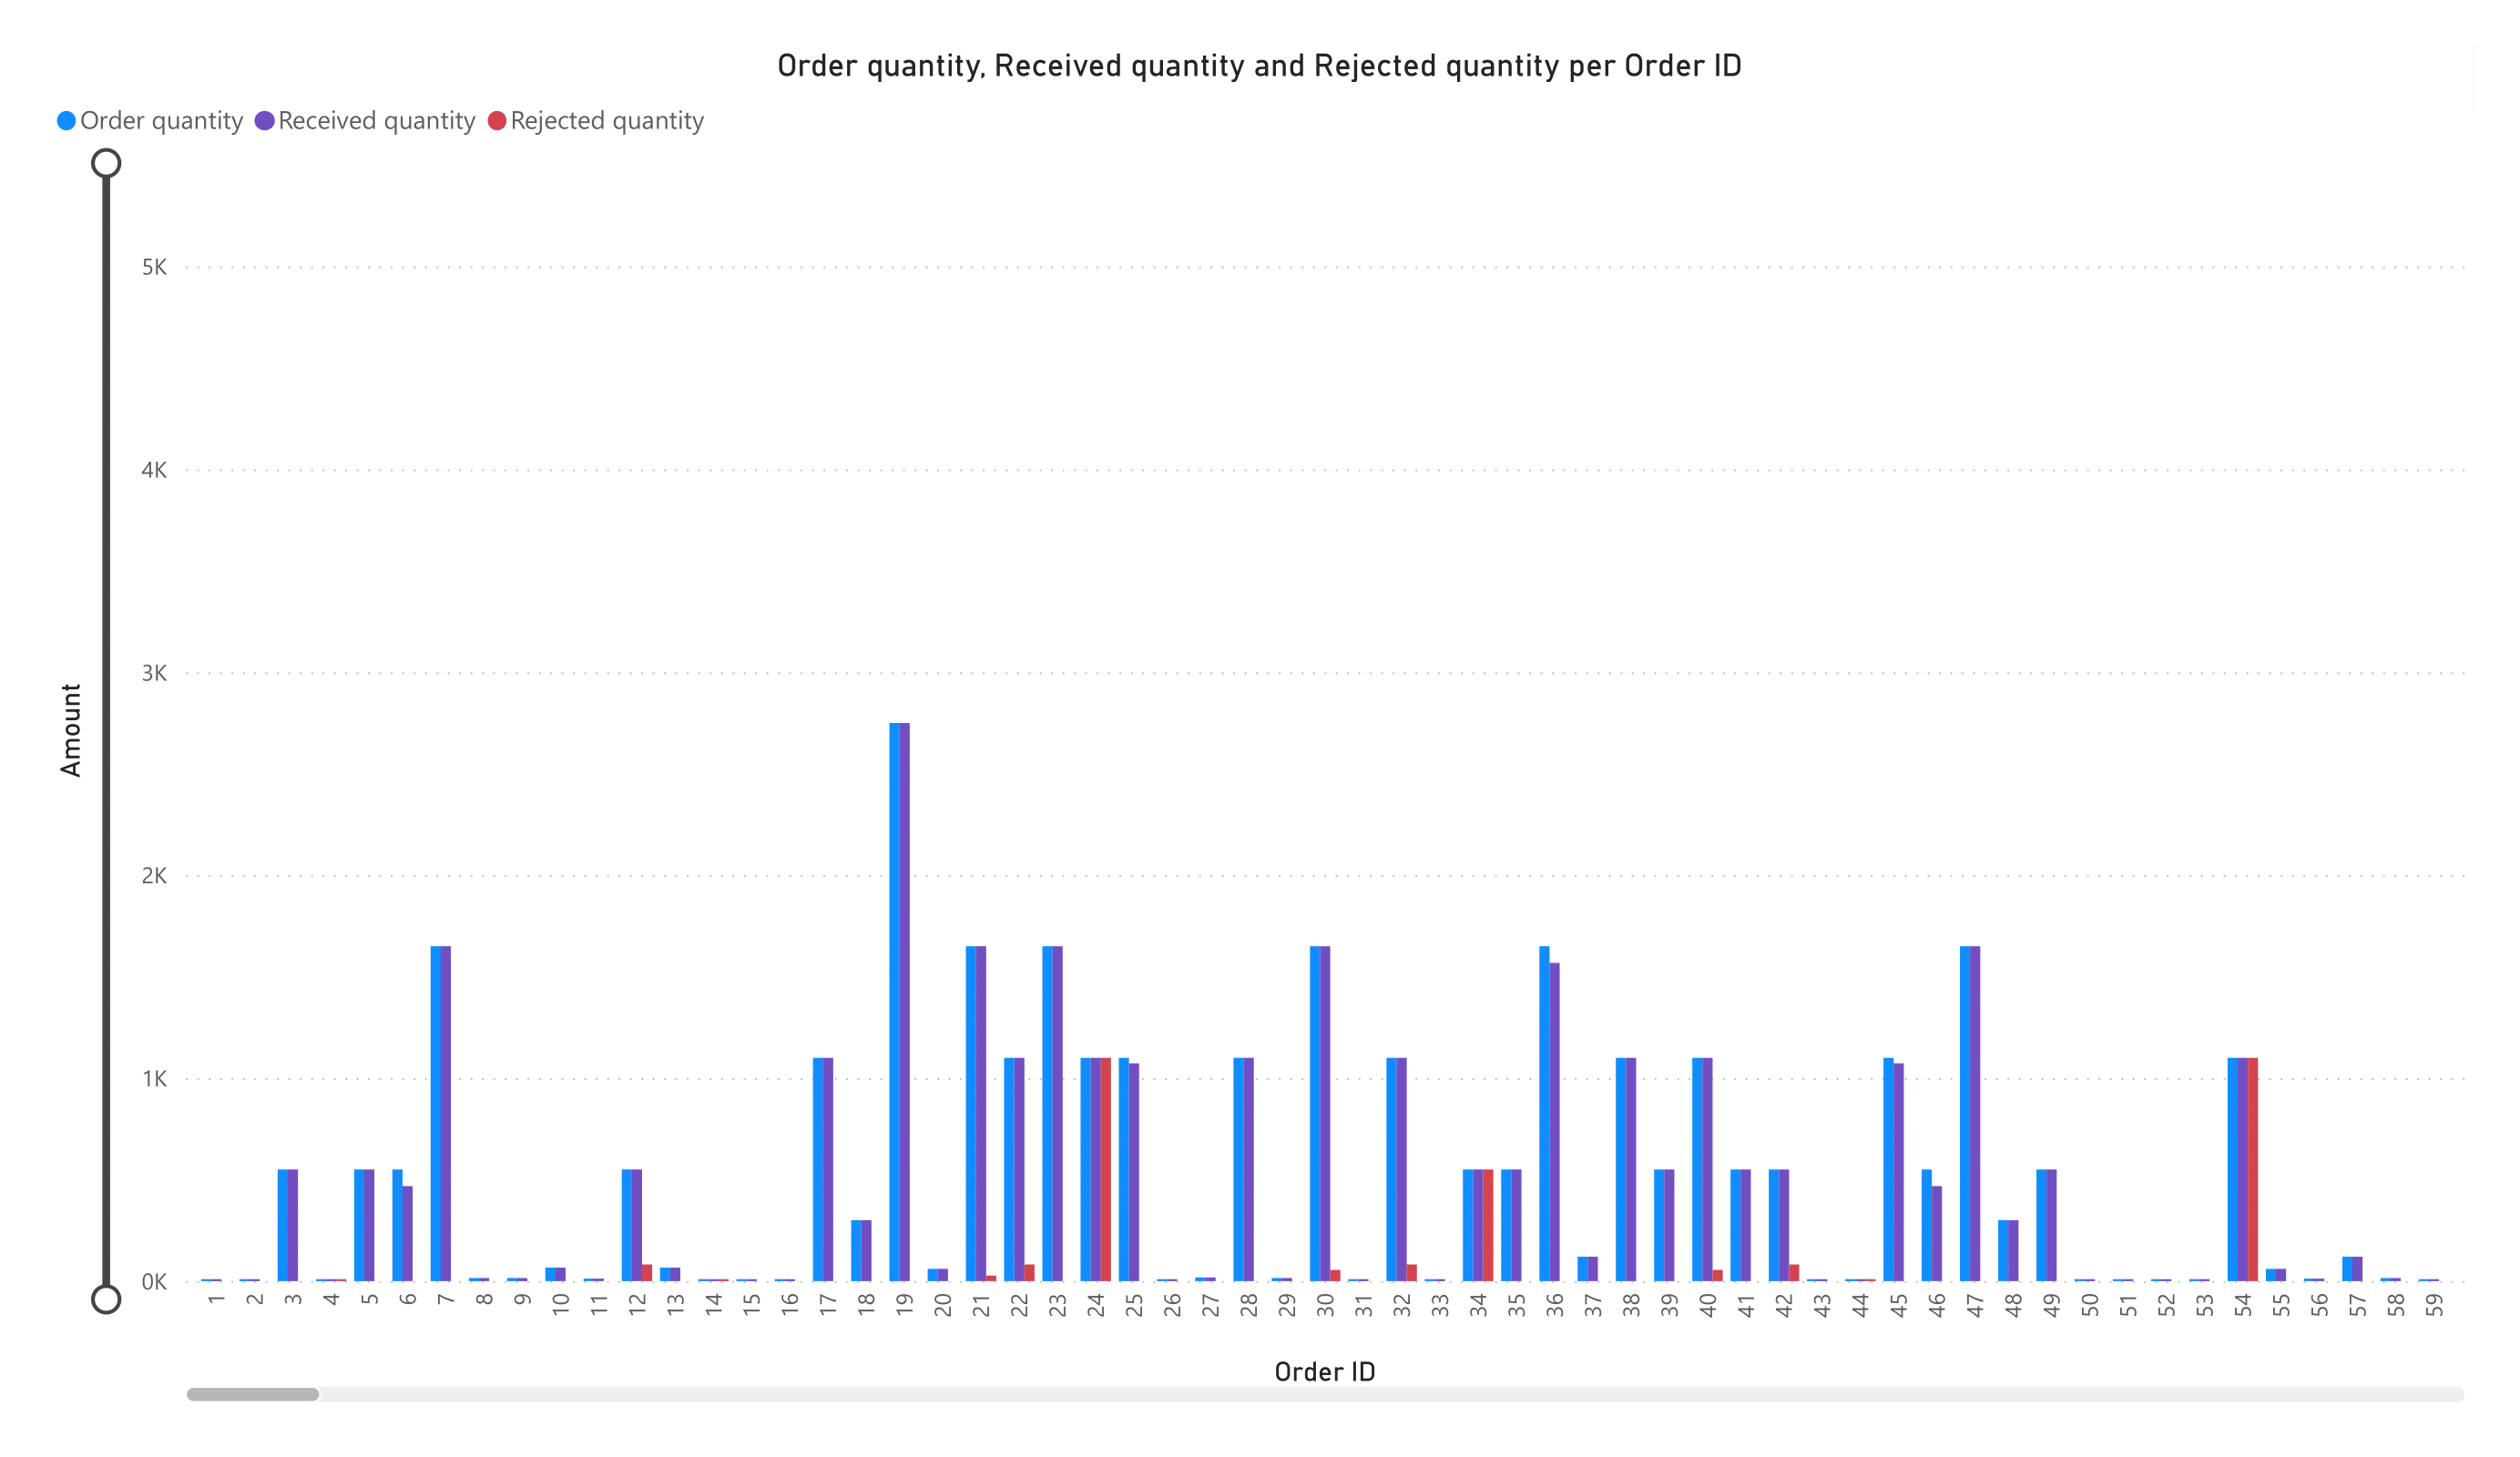

Layout of this report page (visuals, bound fields, positions):
{"tool":"powerbi","page":{"name":"Order performances","canvas":[1280,720],"ordinal":2},"visuals":[{"type":"clusteredColumnChart","fields":{"Category":["Detail.PURCHASEORDERID"],"Y":["Sum(Detail.ORDERQTY)","Sum(Detail.RECEIVEDQTY)","Sum(Detail.REJECTEDQTY)"]},"box":[0,0,1280,720.3],"z":0}]}

Visuals, with their boxes on the page's 1280x720 design canvas (x1, y1, x2, y2). These are canvas units, not pixel positions in the 2520x1457 screenshot, which may show the page scaled, cropped or inside an application window:
clusteredColumnChart - Detail.PURCHASEORDERID x Sum(Detail.ORDERQTY): {"left": 0, "top": 0, "right": 1280, "bottom": 720}
